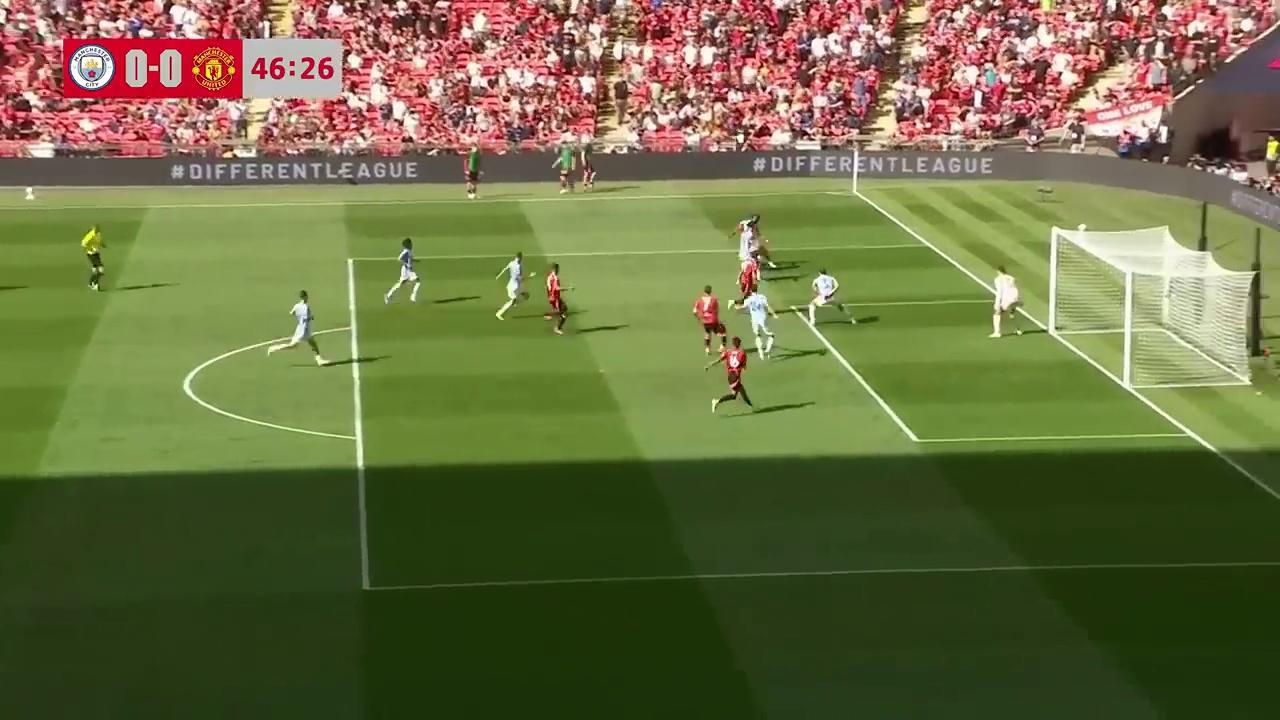player: (710, 333, 754, 414), (280, 290, 325, 365), (743, 284, 777, 360), (692, 285, 727, 357), (988, 265, 1022, 338), (384, 238, 421, 305), (807, 268, 852, 321), (496, 252, 529, 320), (543, 264, 572, 335), (730, 217, 758, 267), (732, 256, 758, 307), (752, 220, 776, 271)
referee: (81, 224, 105, 290)
